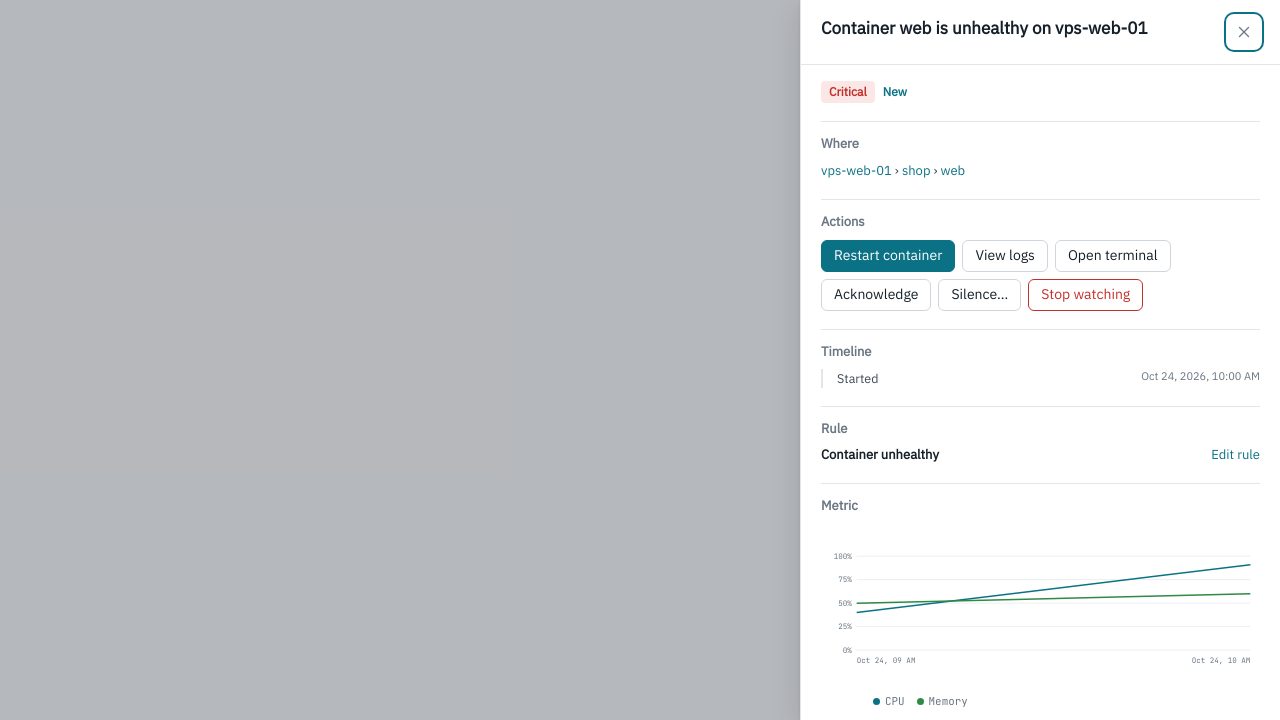
Scenario: AlertDrawer › asks before restarting a container and reports the job
Click the button "Restart container". click: [888, 256]
box: [821, 240, 955, 272]
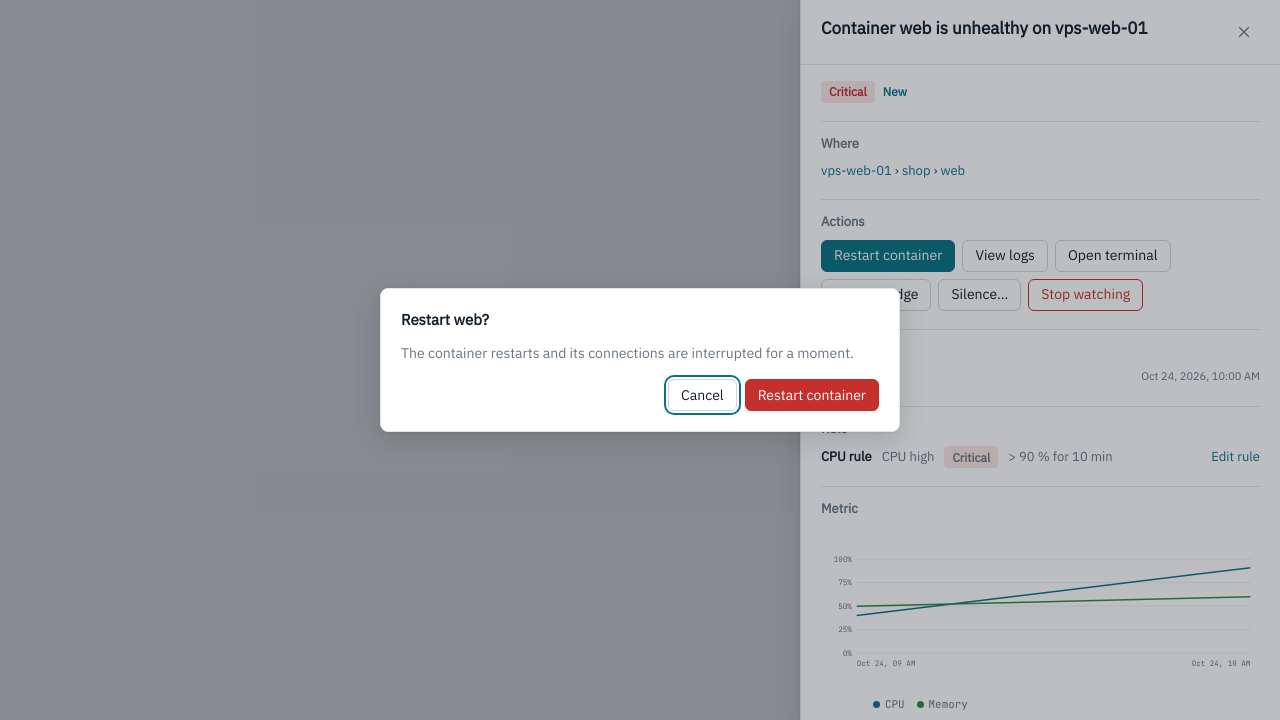
Now the heading "Restart web?" is shown, box [401, 310, 489, 329]
Click the button "Restart container". click: [812, 395]
box: [745, 379, 879, 411]
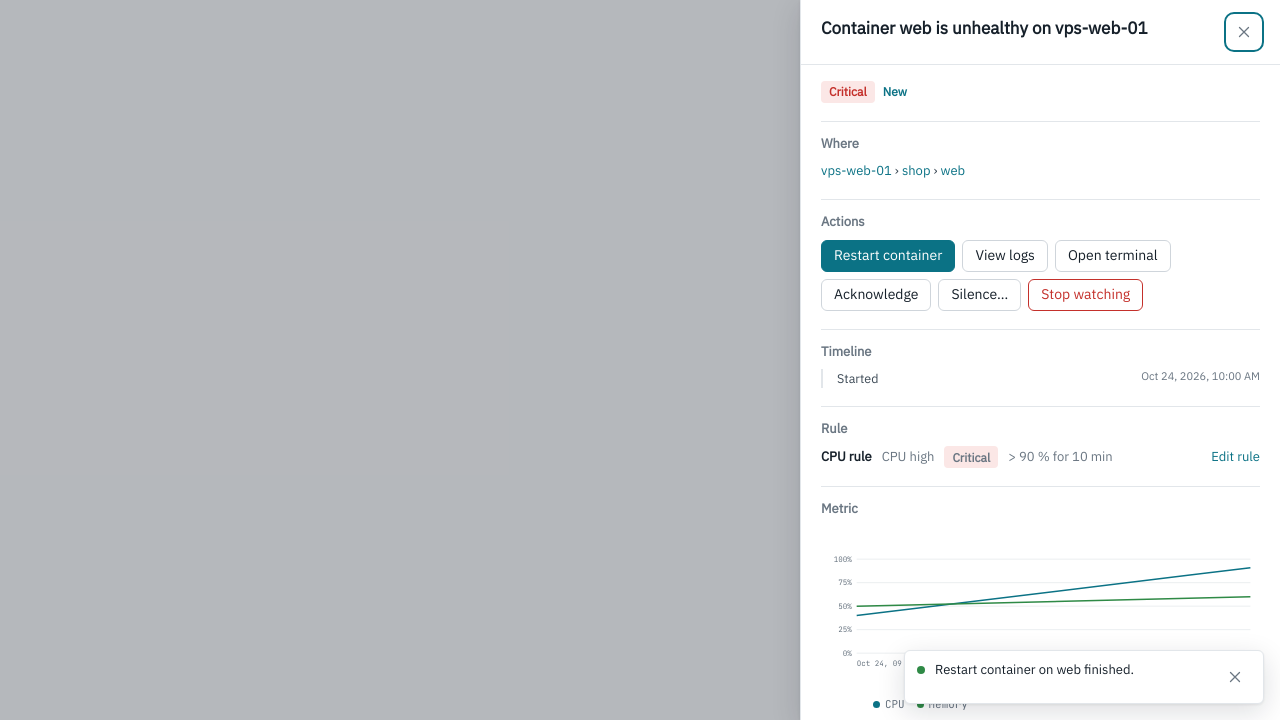
Now the text "Restart container on web finished." is shown, box [935, 661, 1134, 678]
